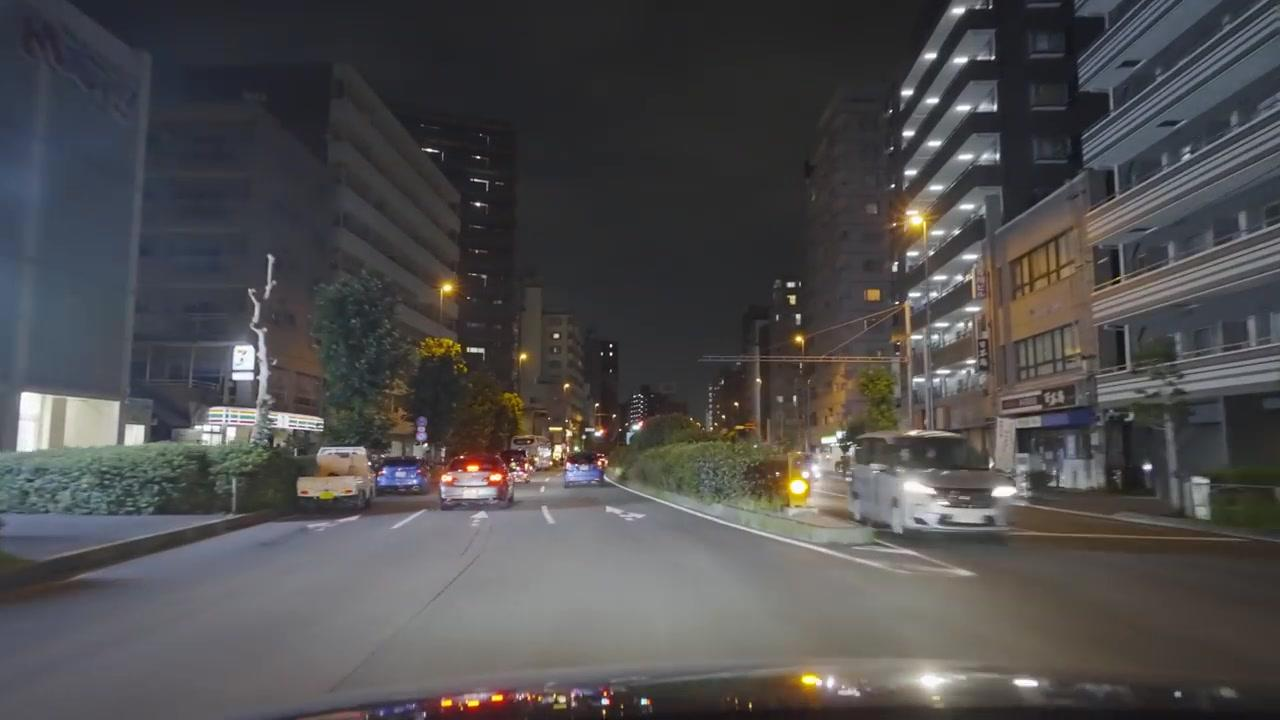car: (847, 430, 1018, 538), (439, 453, 514, 508), (375, 459, 427, 497), (563, 458, 602, 487), (508, 464, 530, 482)
traffic light: (791, 331, 805, 352)
truck: (296, 444, 376, 515)
